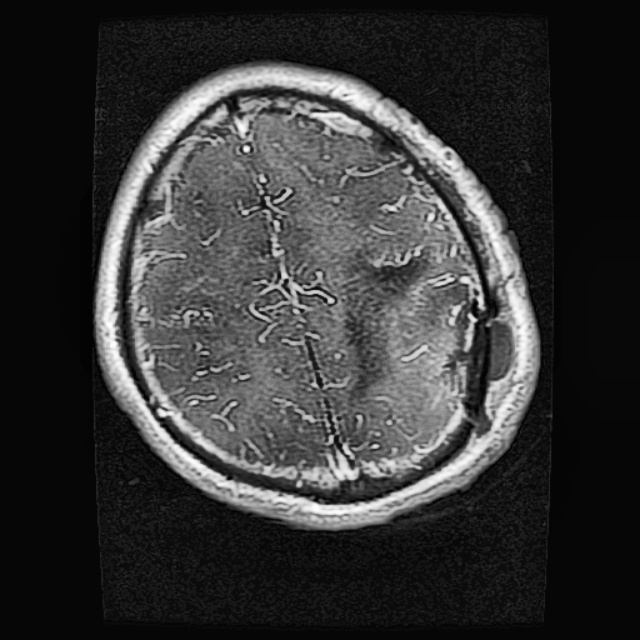Pituitary: (445, 299, 510, 430)
